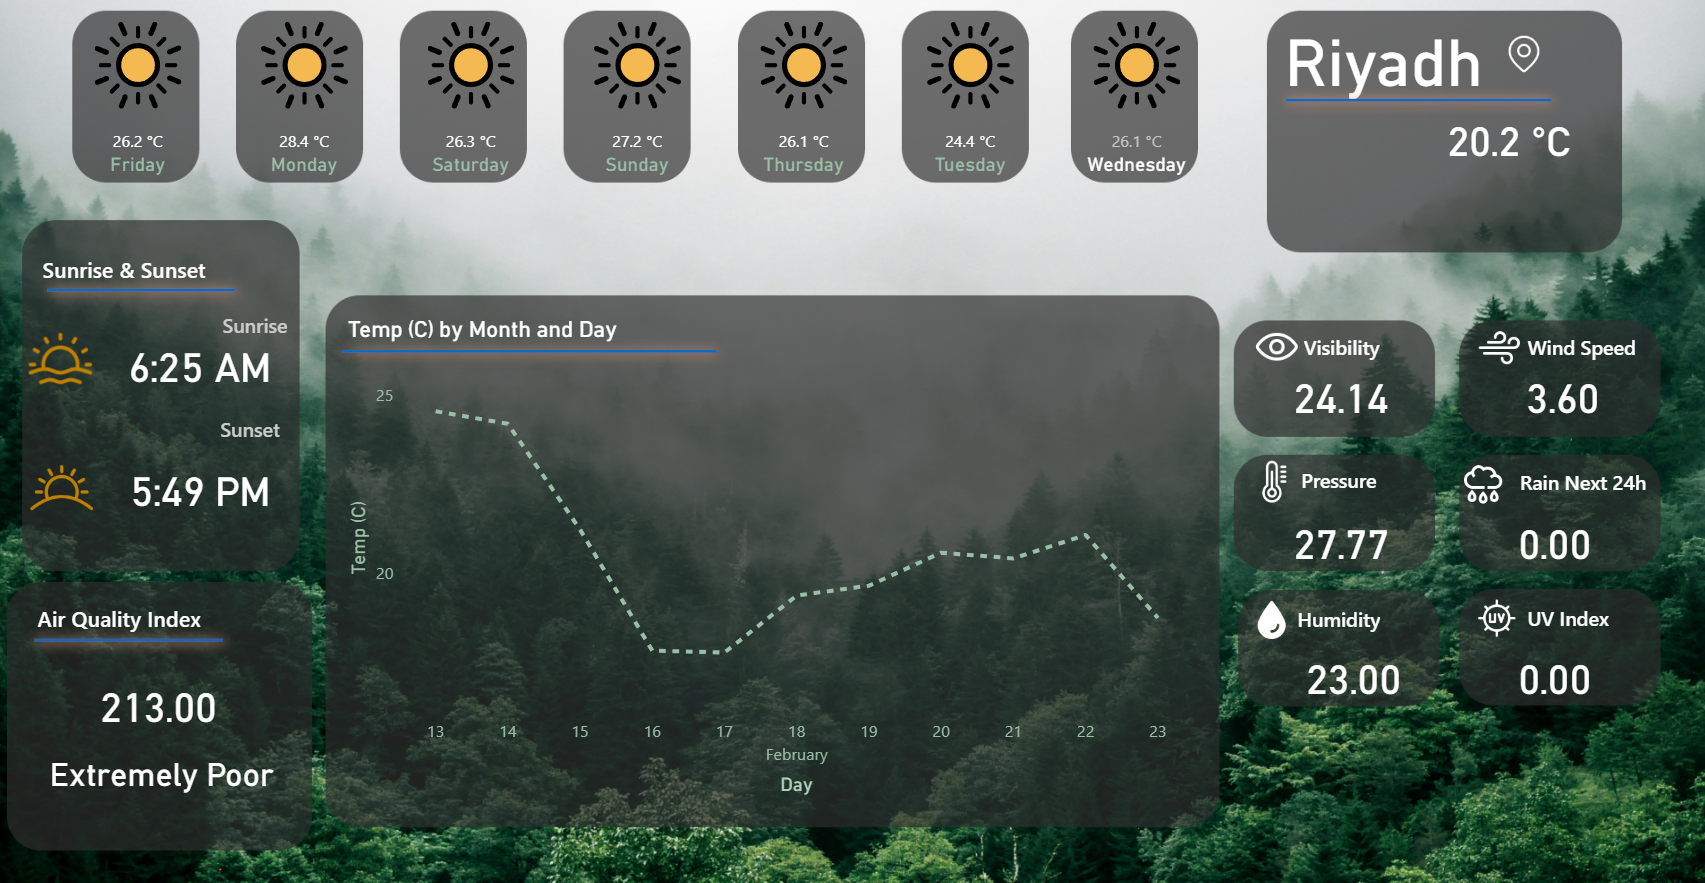

Layout of this report page (visuals, bound fields, positions):
{"tool":"powerbi","page":{"name":"Page 1","canvas":[1280,720],"ordinal":0},"visuals":[{"type":"advancedSlicerVisual","fields":{"Values":["dw v_weather_daily.DayName"]},"box":[53.1,11.2,858.4,151.8],"z":0},{"type":"image","box":[28.5,255.9,47.5,48.4],"z":1000},{"type":"image","box":[21,345.2,63.3,62.4],"z":2000},{"type":"shape","box":[112.3,240,108.9,30.7],"z":3000},{"type":"shape","box":[105.8,318.2,109.9,29.8],"z":4000},{"type":"shape","box":[39.6,198.3,135,30.7],"z":5000},{"type":"card","fields":{"Values":["dw v_weather_daily.TimeOnlySunrise"]},"box":[90.9,255.9,130.3,59.6],"z":6000},{"type":"card","fields":{"Values":["dw v_weather_daily.TimeOnlySunSet"]},"box":[90.9,348,130.3,59.6],"z":7000},{"type":"card","fields":{"Values":["Measures table.AQI (EU) Now"]},"box":[35.4,504.6,180.6,68],"z":8000},{"type":"card","fields":{"Values":["Measures table.AQI Status"]},"box":[18.6,551.2,218.8,77.3],"z":9000},{"type":"shape","box":[35.4,458.1,135.9,30.7],"z":10000},{"type":"lineChart","fields":{"Y":["Measures table.Temp (C)"],"Category":["dw v_weather_hourly.ts_utc.Variation.Date Hierarchy.Month","dw v_weather_hourly.ts_utc.Variation.Date Hierarchy.Day"]},"box":[261.6,248.6,635,362.2],"z":11000},{"type":"card","fields":{"Values":["Measures table.Wind Speed (km/h)"]},"box":[1107,286.8,129.4,43.8],"z":12000},{"type":"image","box":[1107,256,34.4,32.6],"z":13000},{"type":"shape","box":[1145.2,257,125.7,29.8],"z":14000},{"type":"image","box":[938.2,253,40,36.7],"z":15000},{"type":"shape","box":[978.2,256.3,134.4,31.1],"z":16000},{"type":"card","fields":{"Values":["Measures table.Visibility (km)"]},"box":[929.2,287.7,154.6,41.9],"z":17000},{"type":"image","box":[936.6,356.5,40,31.1],"z":18000},{"type":"shape","box":[976.6,355.4,134.4,31.1],"z":19000},{"type":"image","box":[1092.1,356.6,40,35.4],"z":20000},{"type":"shape","box":[1139.6,356.6,135.9,30.7],"z":21000},{"type":"card","fields":{"Values":["Measures table.Pressure (inHg)"]},"box":[948.7,395.7,115.4,42.8],"z":22000},{"type":"card","fields":{"Values":["Measures table.Rain Next 24h (mm)"]},"box":[1107.9,395.7,115.4,42.8],"z":23000},{"type":"image","box":[939.2,460.4,30,30],"z":24000},{"type":"shape","box":[973.7,459.3,134.4,31.1],"z":25000},{"type":"card","fields":{"Values":["Measures table.Humidity (%)"]},"box":[958,496.2,115.4,42.8],"z":26000},{"type":"image","box":[1105.2,459,34.4,29.8],"z":27000},{"type":"shape","box":[1145.2,459,135,29.8],"z":28000},{"type":"card","fields":{"Values":["Measures table.UV Index (Now)"]},"box":[1107.9,496.2,115.4,42.8],"z":29000},{"type":"card","fields":{"Values":["Min(Table.CityName)"]},"box":[911.5,0,254.2,108],"z":29001},{"type":"image","box":[1126.6,40,32.6,27],"z":29002},{"type":"card","fields":{"Values":["Measures table.Temp (C) Text"]},"box":[1047.4,91.2,168.5,52.1],"z":29003},{"type":"shape","box":[253.2,257,297,36.3],"z":29004},{"type":"shape","box":[33.5,211.3,158.3,36.3],"z":29005},{"type":"shape","box":[24.2,472,158.3,36.3],"z":29006},{"type":"shape","box":[956.2,69.8,216,36.3],"z":29007}]}

Visuals, with their boxes in screenshot pixels (x1, y1, x2, y2):
advancedSlicerVisual - dw v_weather_daily.DayName: Rect(167, 0, 1283, 177)
image: Rect(135, 297, 197, 360)
image: Rect(125, 414, 207, 495)
shape: Rect(244, 277, 385, 317)
shape: Rect(235, 378, 378, 417)
shape: Rect(149, 222, 325, 262)
card - dw v_weather_daily.TimeOnlySunrise: Rect(216, 297, 385, 375)
card - dw v_weather_daily.TimeOnlySunSet: Rect(216, 417, 385, 495)
card - Measures table.AQI (EU) Now: Rect(144, 621, 379, 709)
card - Measures table.AQI Status: Rect(122, 681, 406, 782)
shape: Rect(144, 560, 321, 600)
lineChart - Measures table.Temp (C) x dw v_weather_hourly.ts_utc.Variation.Date Hierarchy.Month: Rect(438, 288, 1264, 759)
card - Measures table.Wind Speed (km/h): Rect(1538, 338, 1704, 395)
image: Rect(1538, 297, 1582, 340)
shape: Rect(1587, 299, 1704, 338)
image: Rect(1318, 294, 1370, 341)
shape: Rect(1370, 298, 1545, 338)
card - Measures table.Visibility (km): Rect(1306, 339, 1508, 393)
image: Rect(1316, 428, 1368, 469)
shape: Rect(1368, 427, 1543, 467)
image: Rect(1518, 428, 1570, 474)
shape: Rect(1580, 428, 1704, 468)
card - Measures table.Pressure (inHg): Rect(1332, 479, 1482, 535)
card - Measures table.Rain Next 24h (mm): Rect(1539, 479, 1689, 535)
image: Rect(1319, 563, 1358, 602)
shape: Rect(1364, 562, 1539, 602)
card - Measures table.Humidity (%): Rect(1344, 610, 1494, 666)
image: Rect(1535, 562, 1580, 600)
shape: Rect(1587, 562, 1704, 600)
card - Measures table.UV Index (Now): Rect(1539, 610, 1689, 666)
card - Min(Table.CityName): Rect(1283, 0, 1614, 105)
image: Rect(1563, 17, 1606, 52)
card - Measures table.Temp (C) Text: Rect(1460, 83, 1679, 151)
shape: Rect(427, 299, 813, 346)
shape: Rect(141, 239, 347, 287)
shape: Rect(129, 578, 335, 626)
shape: Rect(1342, 55, 1623, 102)
